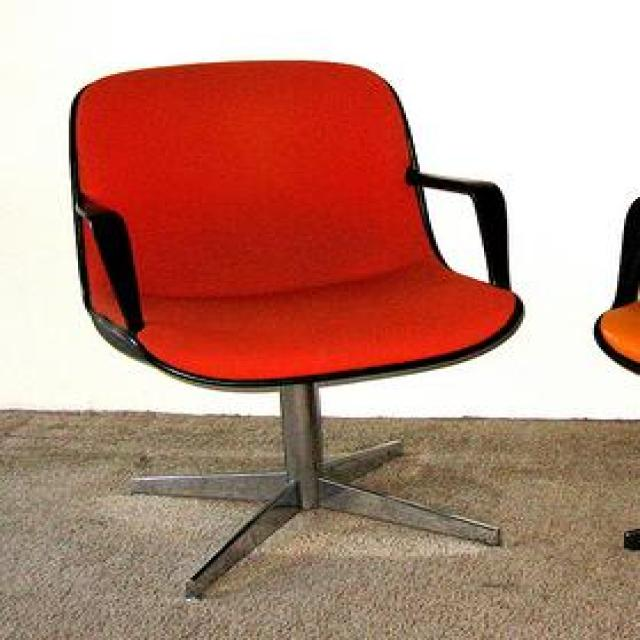chair: (67, 57, 526, 599)
